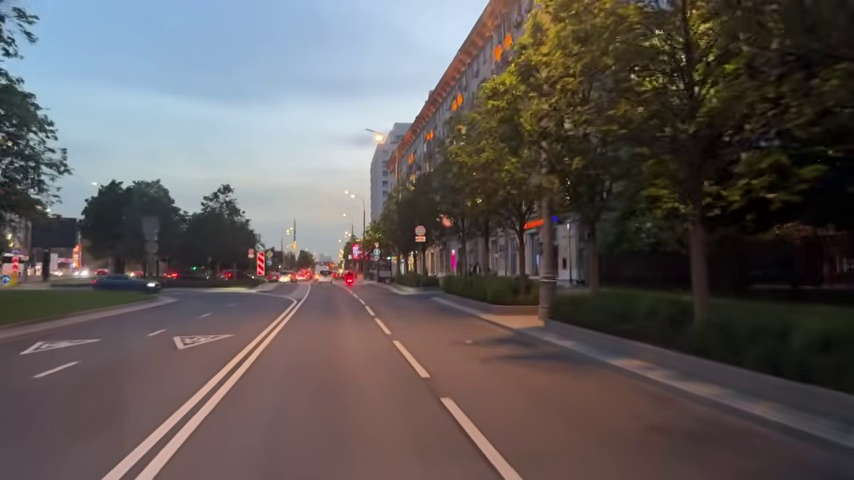acesa: (373, 131, 386, 146)
